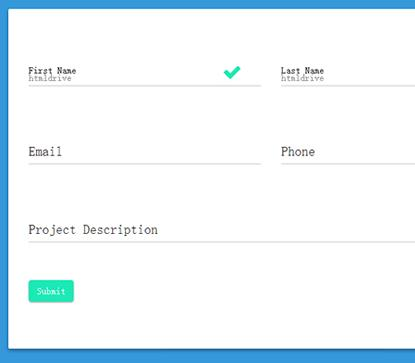button: (27, 278, 75, 304)
field_line: (24, 139, 264, 168), (25, 61, 262, 89)
